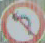Don't turn left: (4, 6, 42, 41)
